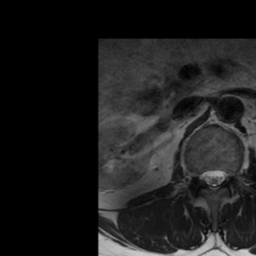CCS_normal: (211, 162, 217, 196)
LFS_normal: (226, 165, 234, 186)
LLS_normal: (217, 163, 225, 190)
RFS_stenosis: (194, 162, 203, 186)
RLS_normal: (203, 163, 211, 189)
